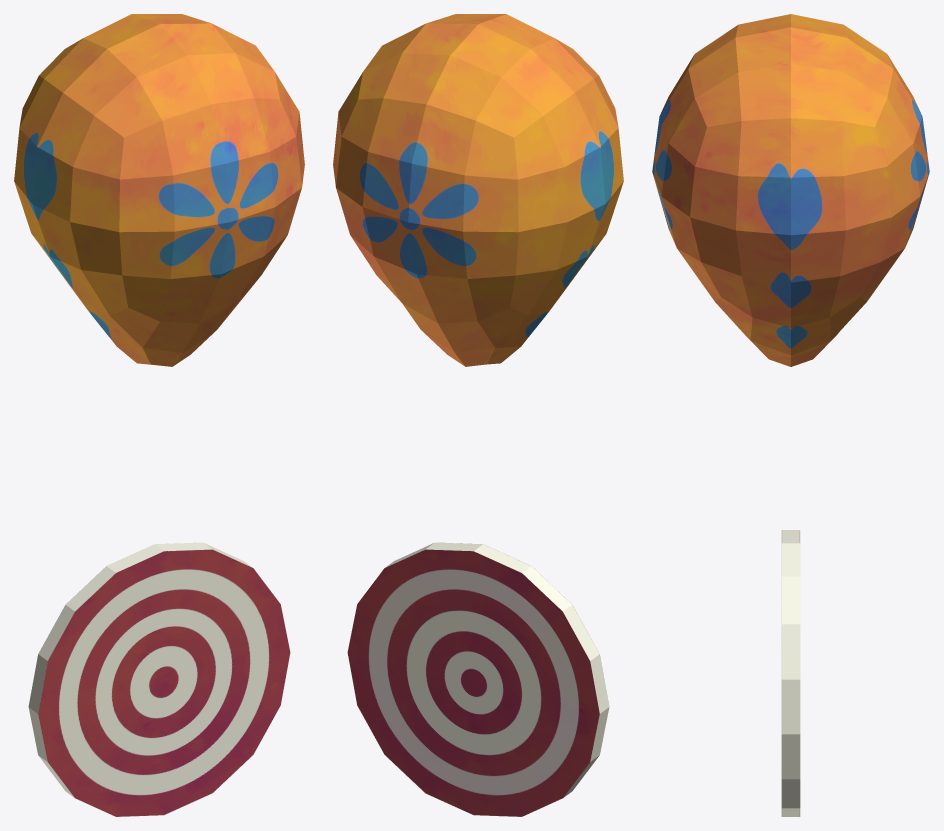
Rendered from Globe_V01.fbx.
3 views of the same model, side by side, from view 1: azimuth 30°, elevation 25°; view 2: azimuth 150°, elevation 25°; view 3: azimuth 270°, elevation 25° (orthographic).
Visible parts, largest first — view 1: Globe, Aim; view 2: Globe, Aim; view 3: Globe, Aim.
Part boxes in pixels (x1,y1,x2,y2): Globe: [14, 14, 304, 366]; Aim: [28, 542, 290, 816]; Globe: [333, 14, 623, 366]; Aim: [347, 542, 609, 816]; Globe: [652, 14, 929, 366]; Aim: [781, 530, 800, 816].
Size of the model in its own units: 83.53 by 247 by 80.16.
1 material, 1 textured.
